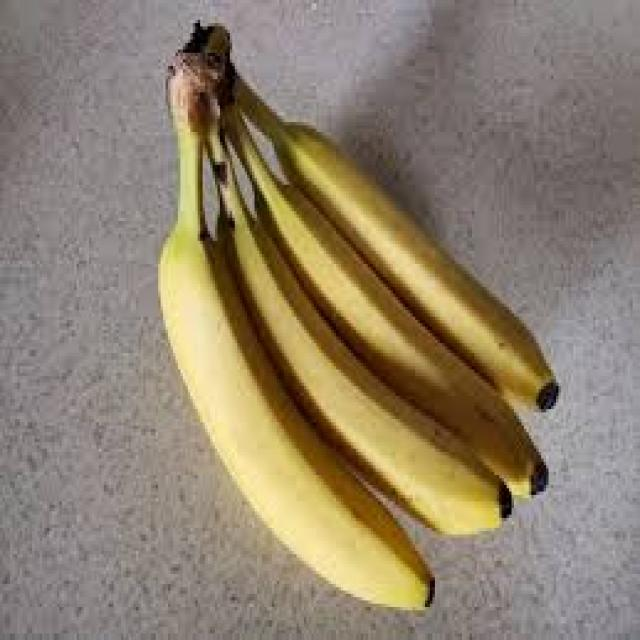banana: (156, 17, 558, 610)
